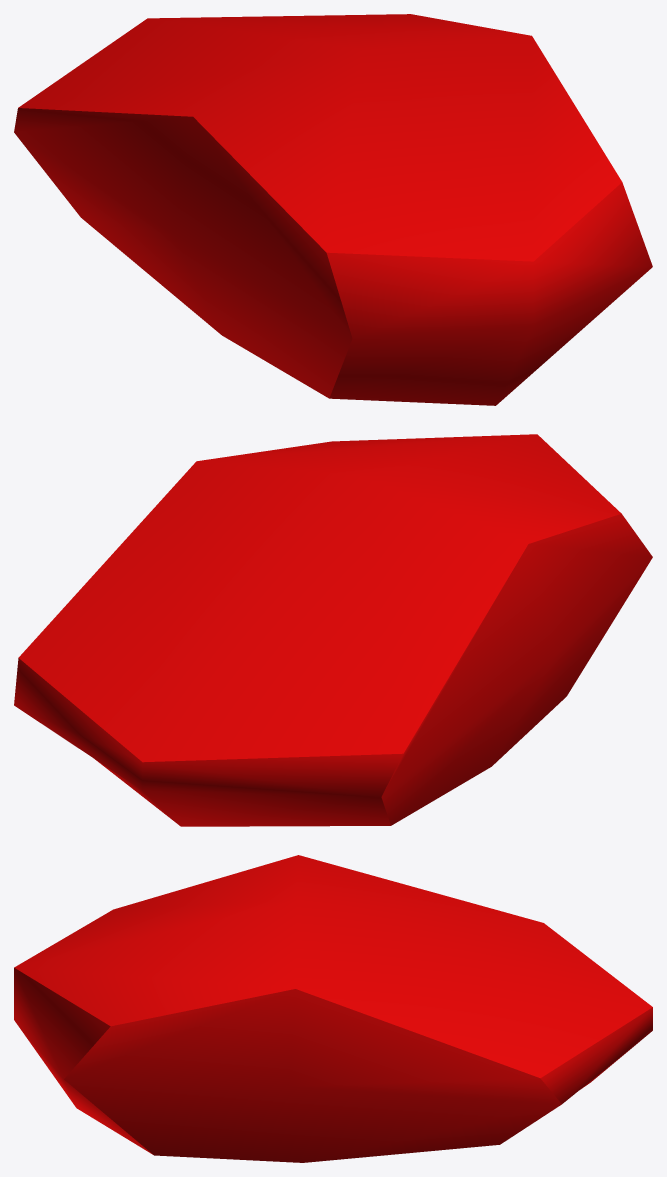
File: mouse.fbx
3 renders of one model, top to bottom at view 1: azimuth 30°, elevation 25°; view 2: azimuth 150°, elevation 25°; view 3: azimuth 270°, elevation 25°, orthographic. The views are drawn at different scales.
Visible parts, largest first — view 1: mouse; view 2: mouse; view 3: mouse.
Boxes of the visible parts, x1,y1,x2,y2 form: mouse: (14,14,652,405); mouse: (14,434,652,826); mouse: (14,855,652,1162).
Size of the model in its own units: 0.1779 by 0.1132 by 0.3093.
